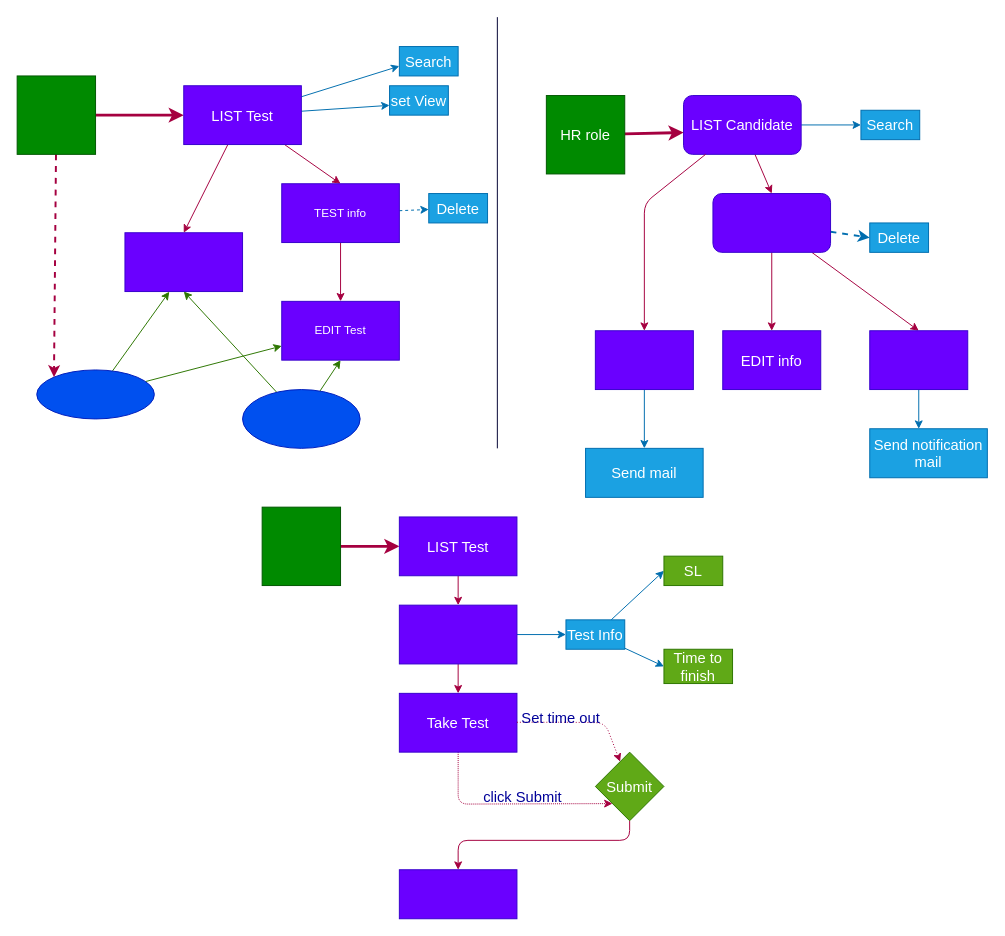
Image size: 1005x936. Some labels were removed from this diagram. The box of each missing label's shape, as (x1, y1, x2, y2) in pixels:
ADD new Candidate + Account: (594, 330, 693, 390)
ADD new Test: (124, 232, 243, 292)
Candidate: (261, 506, 341, 586)
Create Question: (242, 389, 360, 448)
HA role: (16, 75, 96, 154)
Overview: (398, 604, 517, 664)
QUESTION Bank: (36, 369, 154, 419)
Result Test: (869, 330, 968, 390)
Submit success: (398, 869, 517, 919)
TEST with Candidate: (712, 193, 831, 252)
